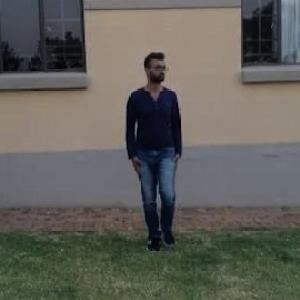follow: (119, 38, 192, 271)
